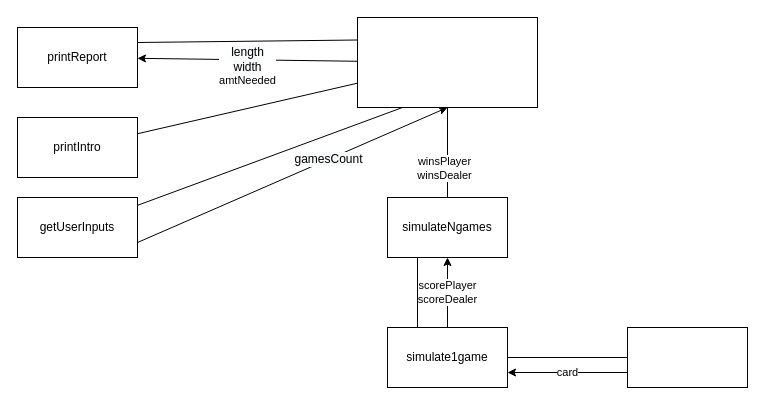
The diagram is 765 pixels wide and 405 high, and some of its shapes have lost their labels. Here are the shapes that lost their labels. From the top down, the centre of each, then its label:
At point (447, 62): "Main calcProbability(winsPlayer, winsDealer)".
At point (687, 357): "getPlayCard".
